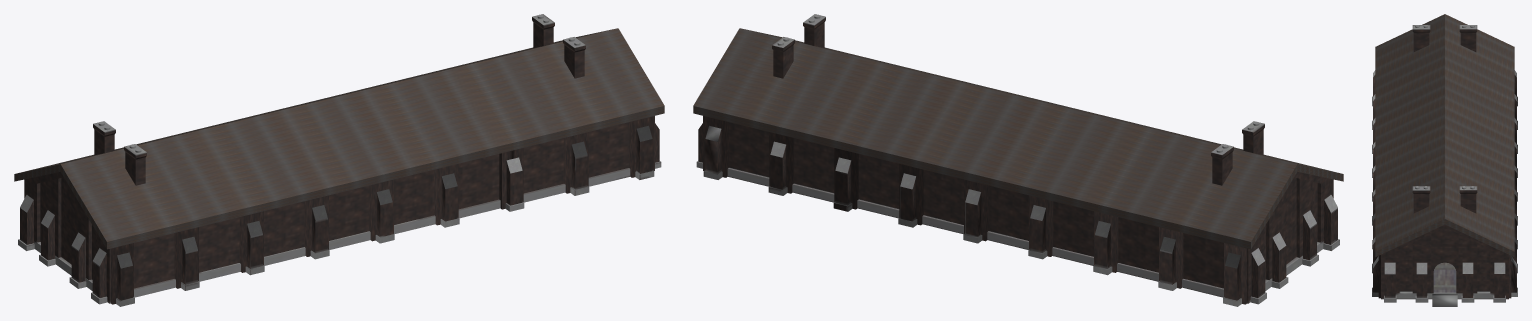
The model's file is bld01.fbx.
3 views of the same model, side by side, from view 1: azimuth 30°, elevation 25°; view 2: azimuth 150°, elevation 25°; view 3: azimuth 270°, elevation 25° (orthographic). The views are drawn at different scales.
Visible parts, largest first — view 1: Cube; view 2: Cube; view 3: Cube.
Part boxes in pixels (box(x1,y1,x2,y2)): Cube: box(14, 14, 664, 306); Cube: box(693, 14, 1343, 306); Cube: box(1372, 14, 1517, 306).
Bounding box in the file's own units: 2625 × 539 × 766.
1 material, 1 textured.
